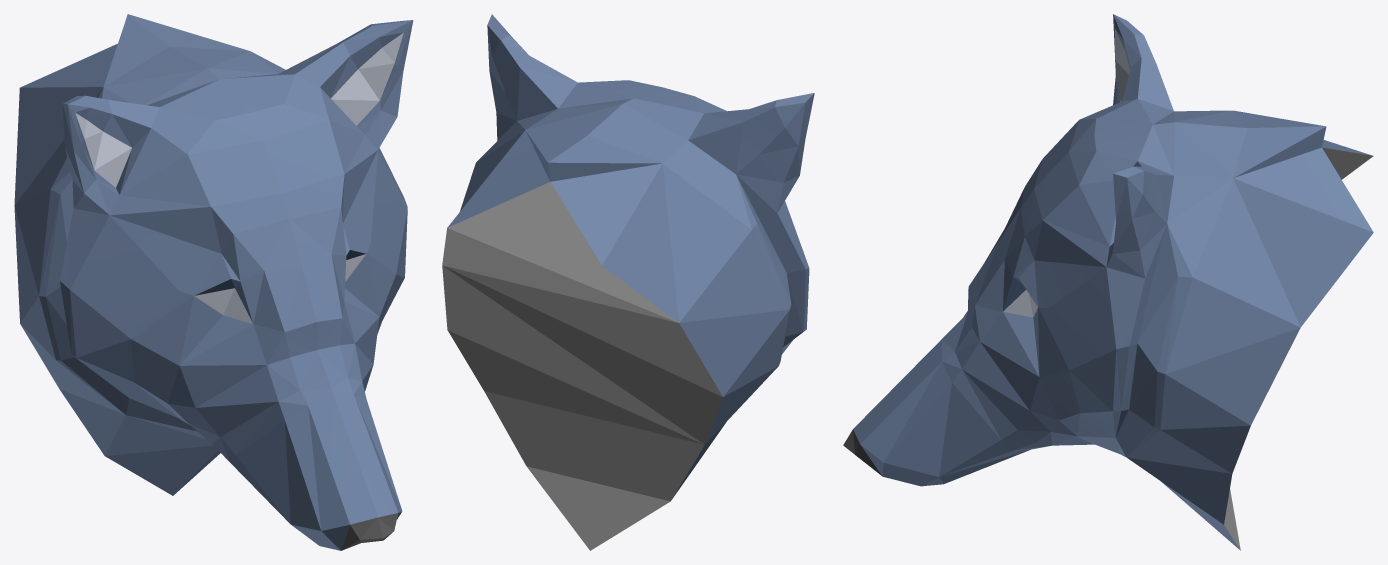
Rendered from Wolf_Head.fbx.
The picture shows the model from 3 angles, left to right: view 1: azimuth 30°, elevation 25°; view 2: azimuth 150°, elevation 25°; view 3: azimuth 270°, elevation 25°; orthographic projection. The views are drawn at different scales.
Parts seen in each view (by area): view 1: WolfFinal; view 2: WolfFinal; view 3: WolfFinal.
Part boxes in pixels (box(x1,y1,x2,y2)): WolfFinal: box(14, 14, 413, 550); WolfFinal: box(442, 14, 814, 550); WolfFinal: box(843, 14, 1373, 550).
Bounding box in the file's own units: 0.6869 × 0.9126 × 0.9601.
